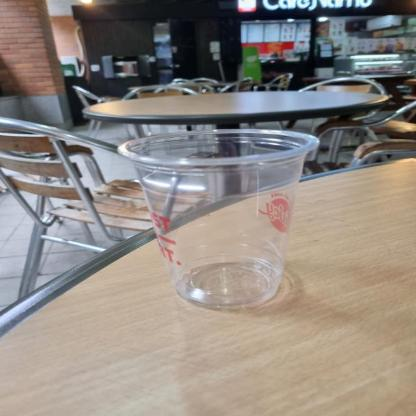Plastic Cup: (112, 122, 326, 316)
